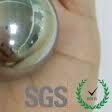ironball: (0, 0, 63, 86)
